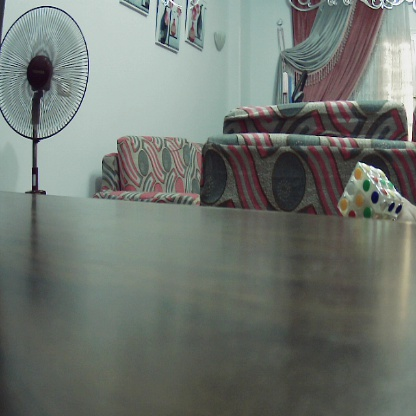Rubix Cube: (339, 161, 402, 218)
